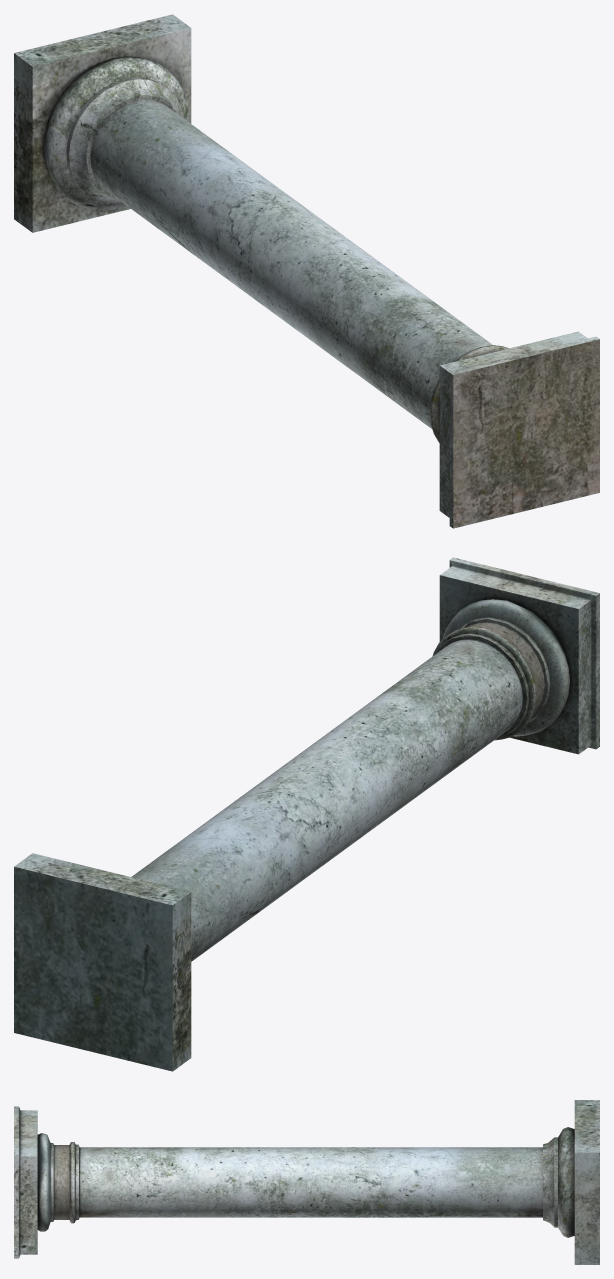
The model's file is column2.glb.
3 views of the same model, one above another, from view 1: azimuth 30°, elevation 25°; view 2: azimuth 150°, elevation 25°; view 3: azimuth 270°, elevation 25° (orthographic). The views are drawn at different scales.
Visible parts, largest first — view 1: 10409_Doric_Column_v1_SG; view 2: 10409_Doric_Column_v1_SG; view 3: 10409_Doric_Column_v1_SG.
Boxes of the visible parts, x1,y1,x2,y2 form: 10409_Doric_Column_v1_SG: [14, 14, 599, 528]; 10409_Doric_Column_v1_SG: [14, 557, 599, 1071]; 10409_Doric_Column_v1_SG: [14, 1100, 599, 1264].
Bounding box in the file's own units: 80.01 × 80.01 × 378.
1 material, 1 textured.
